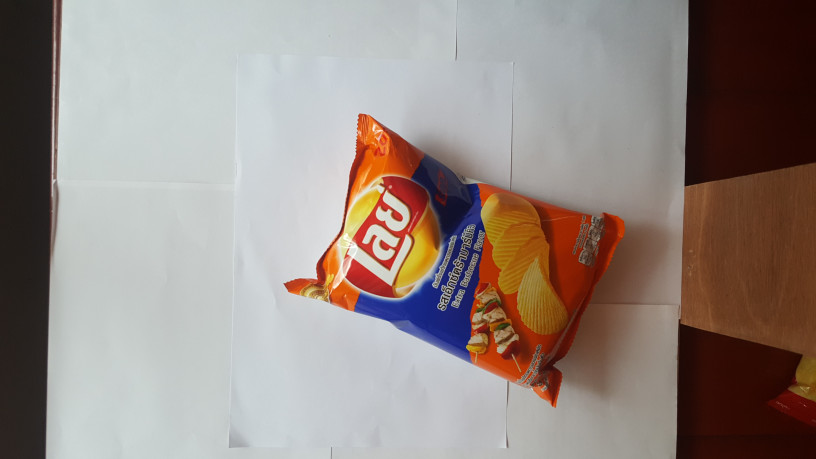lays-bbq: (282, 106, 630, 413)
